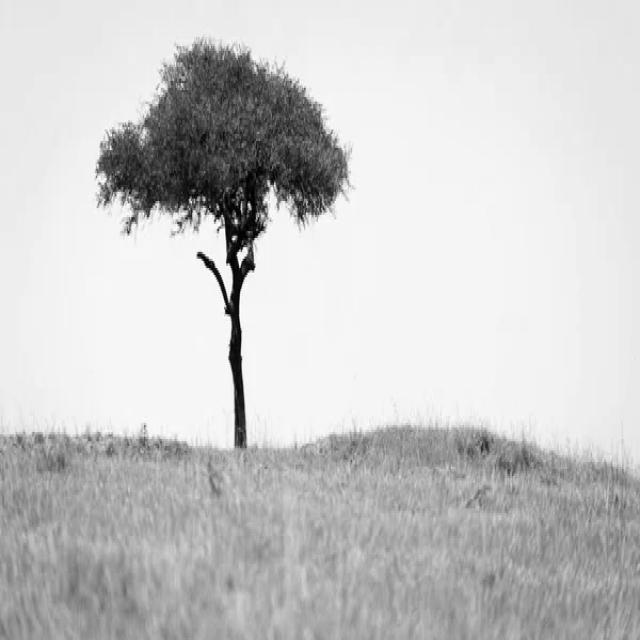Tree: (96, 39, 349, 447)
